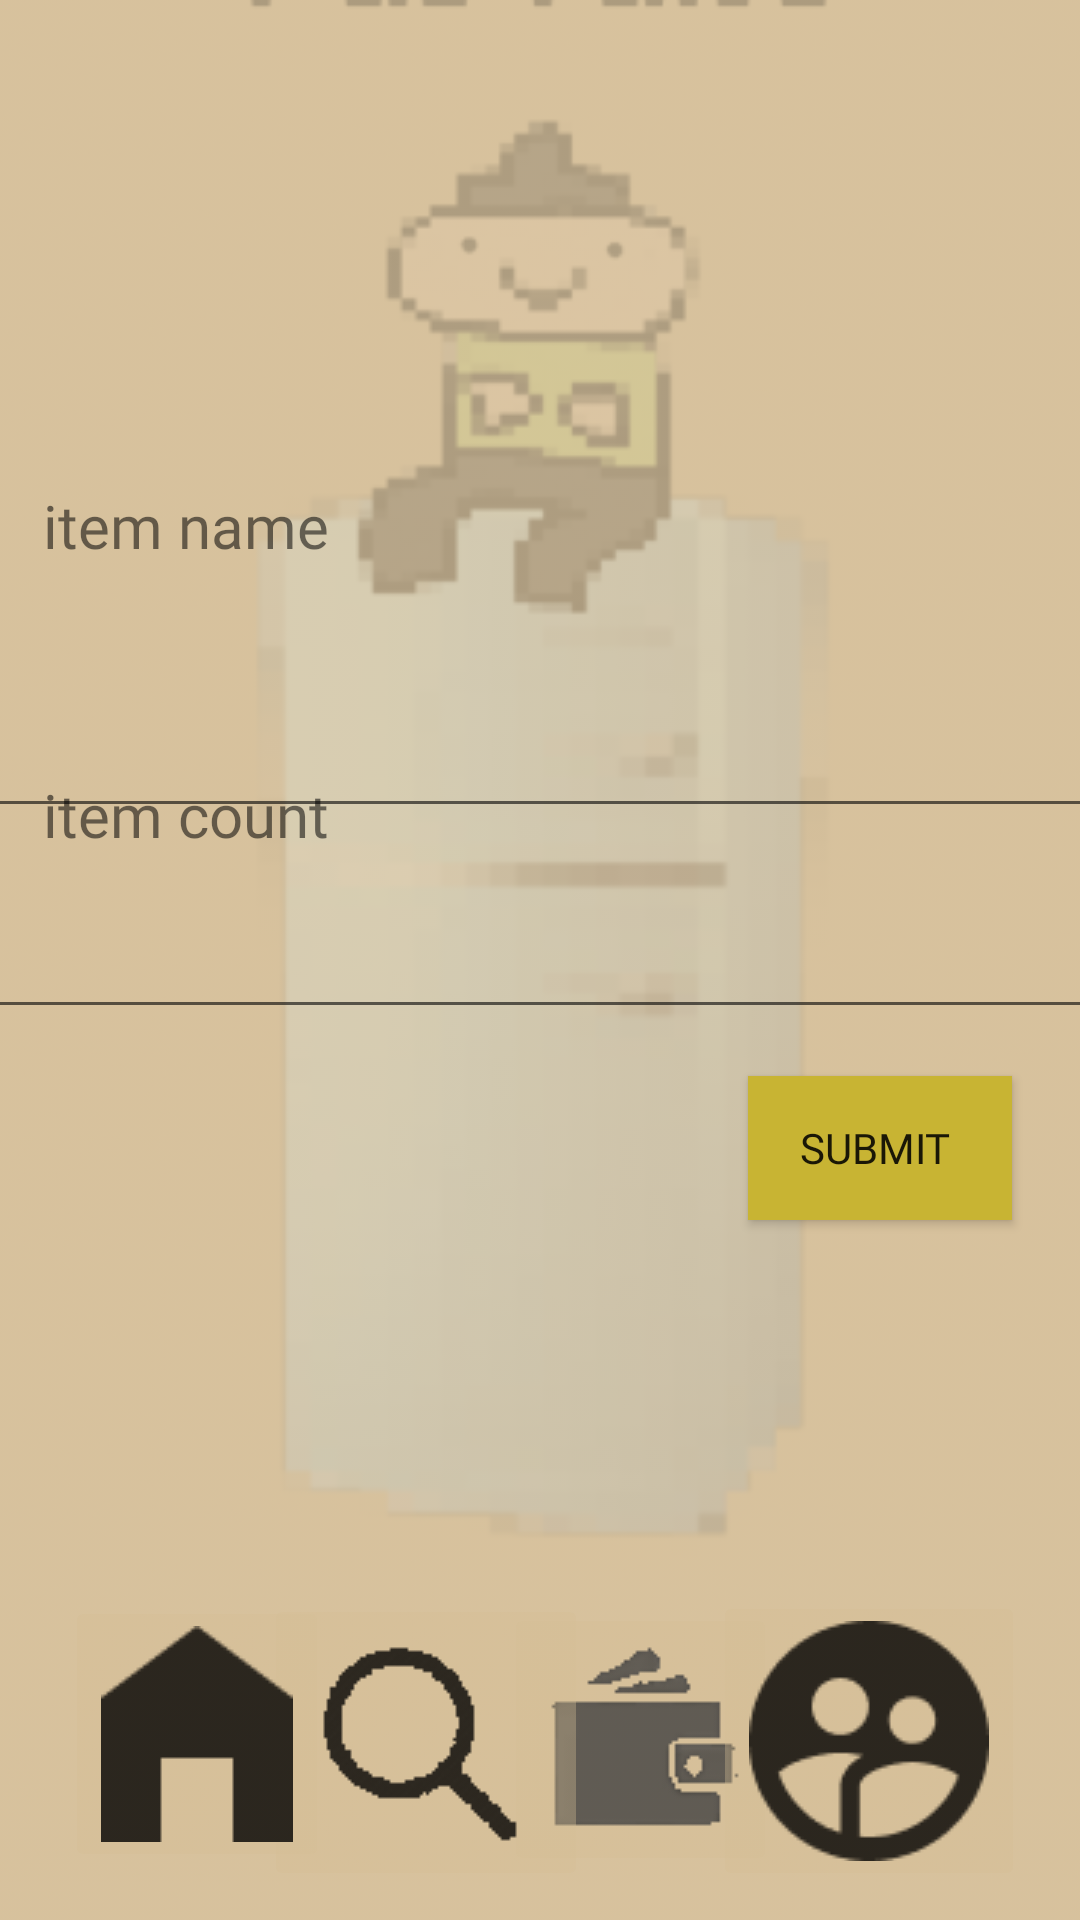

Point at icon controls on the screen. Image size 1080 × 1920, points as (x=x, y=y).
homepage: (x=197, y=1734)
wallet: (x=645, y=1736)
